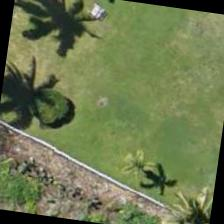Kelapa_Sawit: (150, 163, 218, 223)
